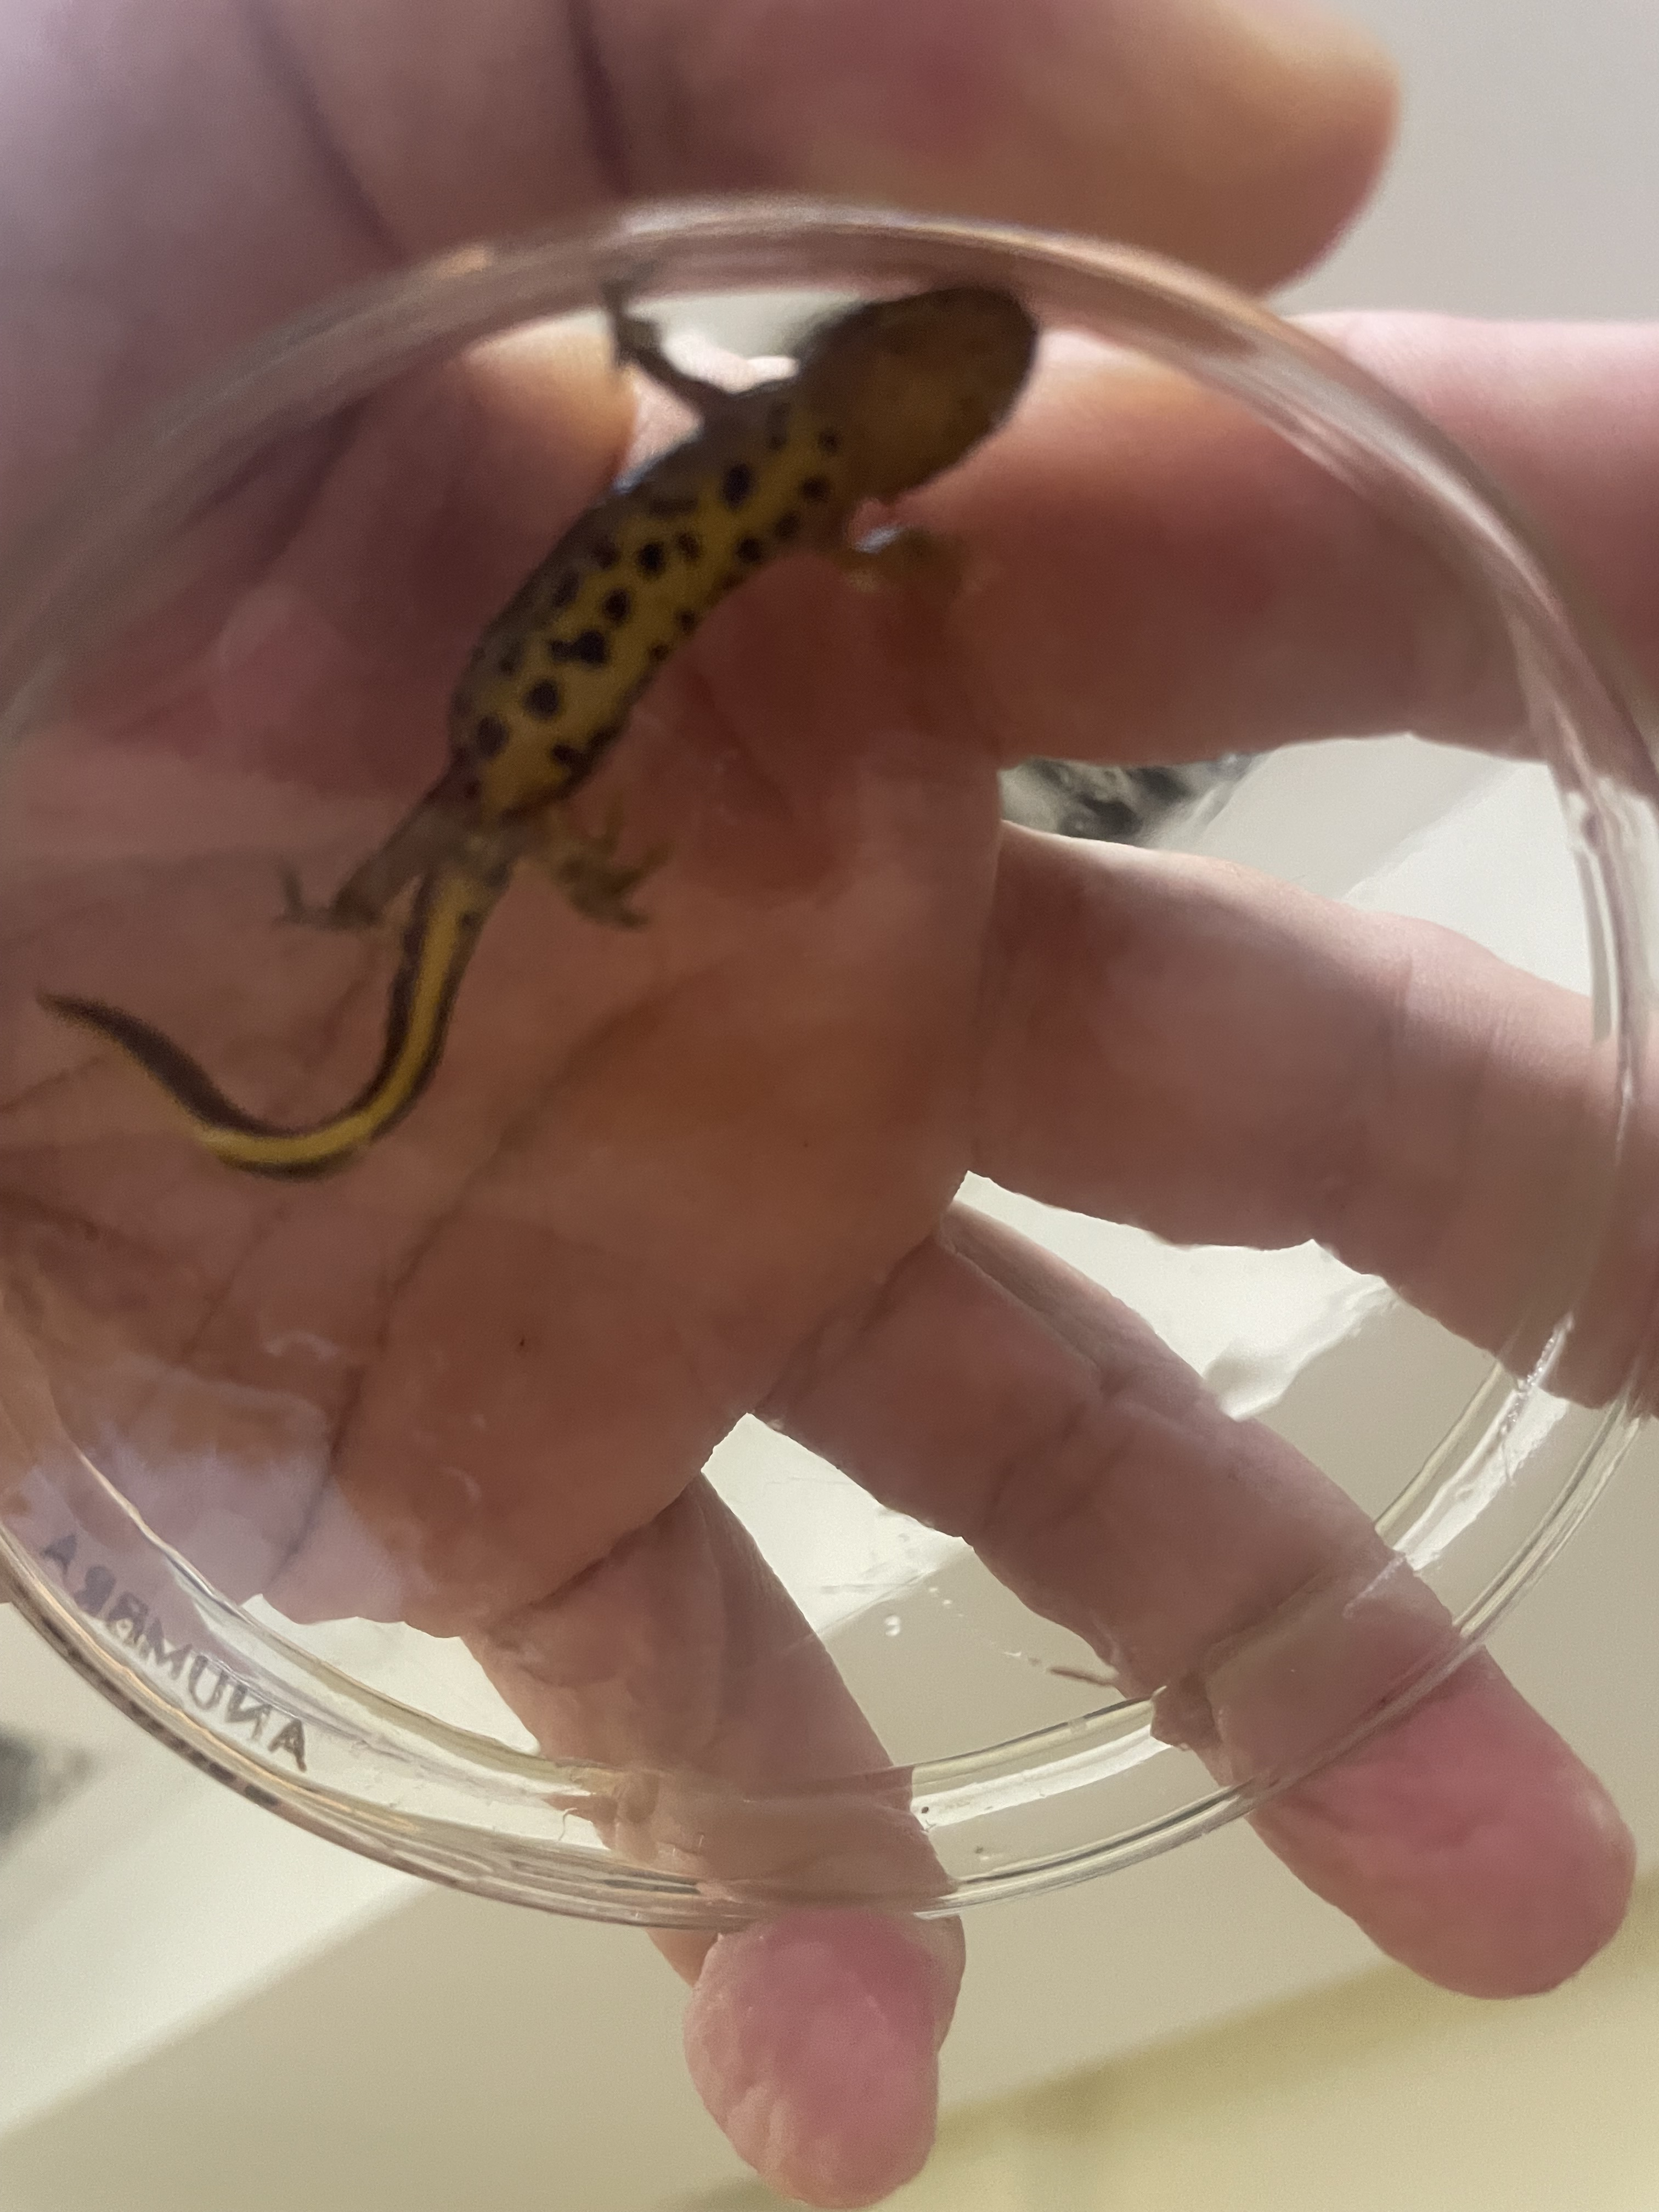Karelin_newt: (444, 423, 809, 791)
